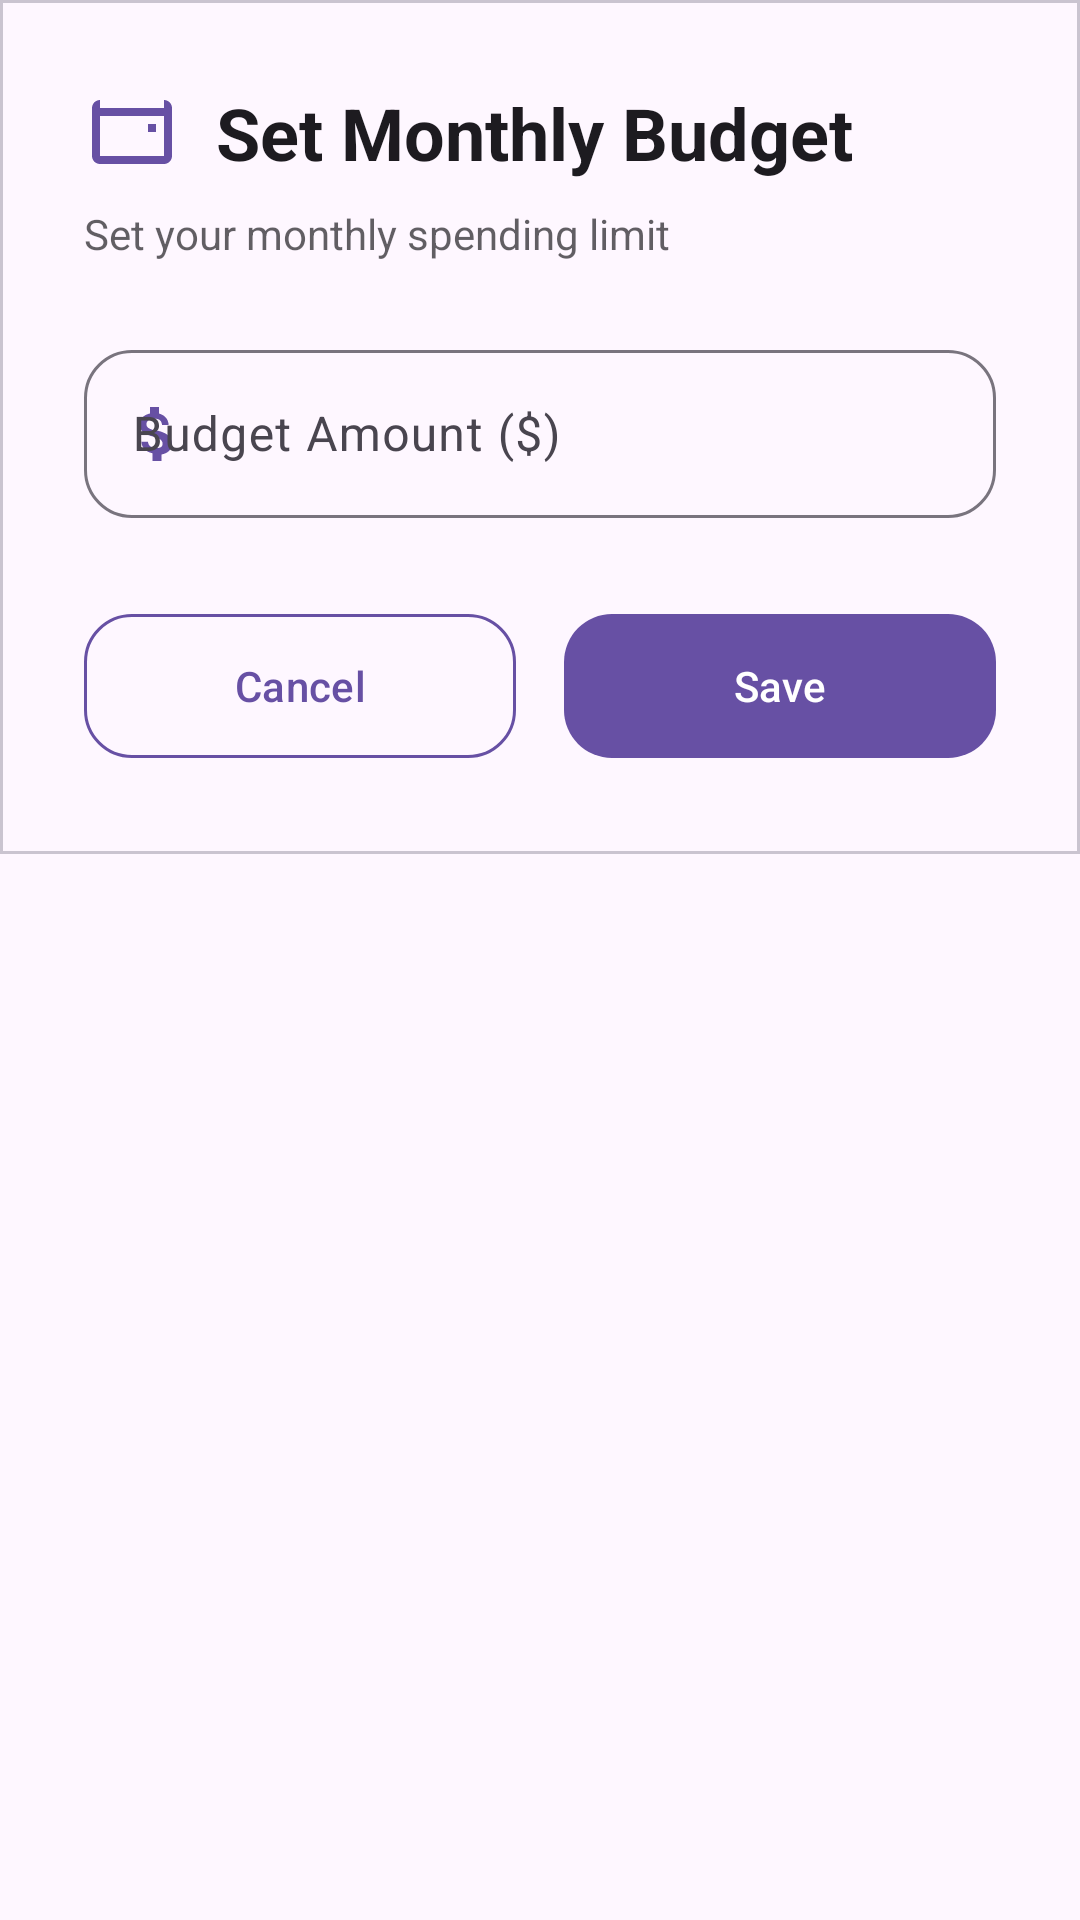

Point at icon controls on the screen. Image size 1080 x 1920, points as point (x, y).
wallet: point (132, 132)
